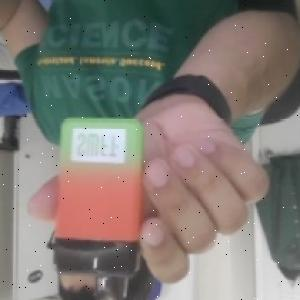Swift-E-Ciggirate: (54, 114, 149, 300)
